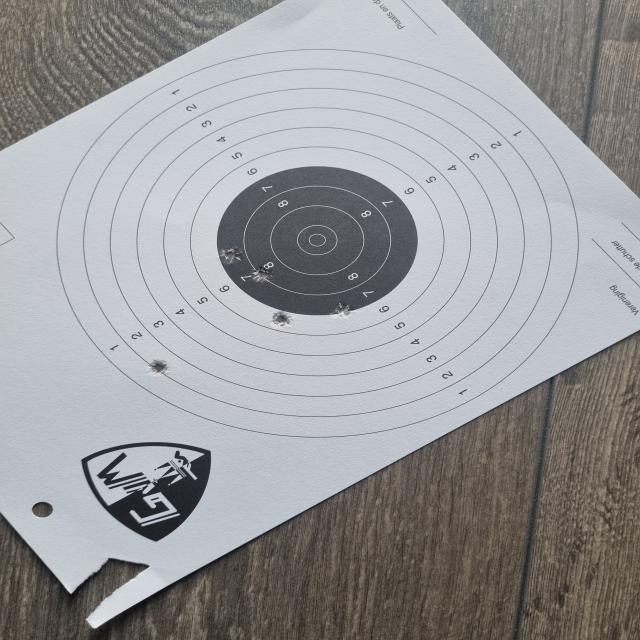2: (147, 358, 170, 376)
6: (266, 311, 292, 329)
7: (217, 247, 240, 265), (331, 302, 354, 318)
8: (250, 266, 274, 284)
Target: (55, 48, 580, 438)
black_contour: (216, 166, 418, 316)
